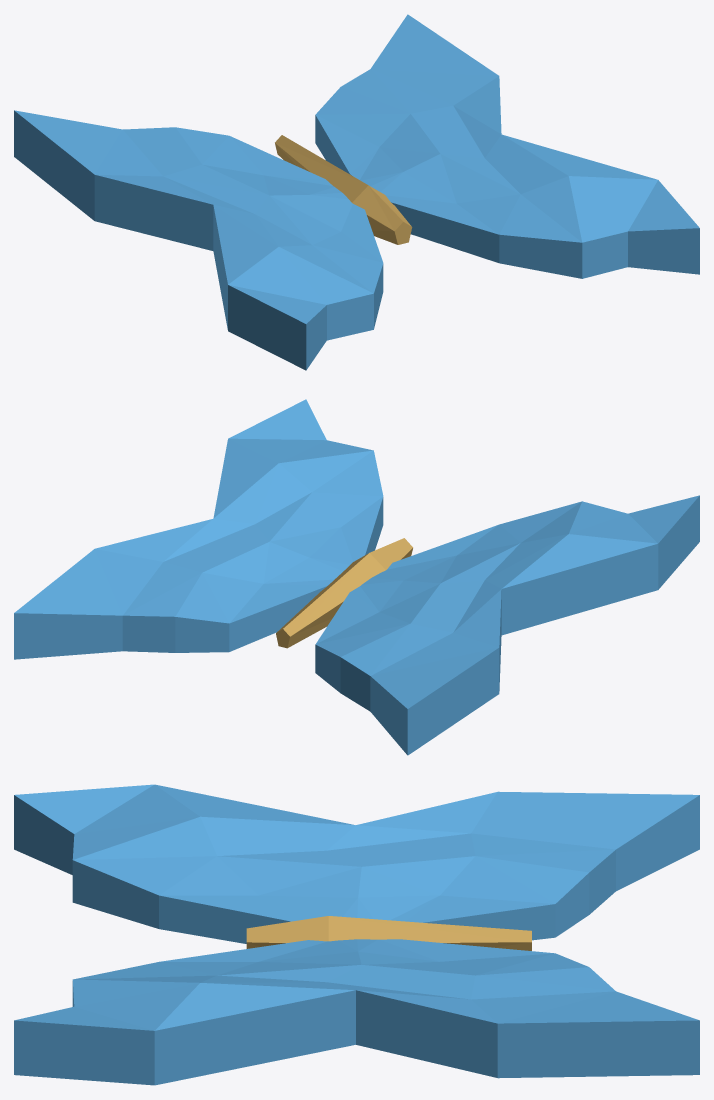
The model's file is butterfly (divided).fbx.
3 views of the same model, one above another, from view 1: azimuth 30°, elevation 25°; view 2: azimuth 150°, elevation 25°; view 3: azimuth 270°, elevation 25° (orthographic). The views are drawn at different scales.
Parts seen in each view (by area): view 1: Cube, Cube.002, Cube.001, Cube.003, Center; view 2: Cube.003, Cube.002, Cube.001, Cube, Center; view 3: Cube.001, Cube.002, Cube.003, Cube, Center.
Boxes of the visible parts, x1=… form: Cube: x1=370, y1=134, x2=699, y2=278; Cube.002: x1=14, y1=110, x2=342, y2=250; Cube.001: x1=213, y1=193, x2=383, y2=370; Cube.003: x1=315, y1=14, x2=501, y2=186; Center: x1=275, y1=135, x2=412, y2=244; Cube.003: x1=14, y1=518, x2=342, y2=659; Cube.002: x1=315, y1=578, x2=501, y2=755; Cube.001: x1=372, y1=495, x2=699, y2=635; Cube: x1=213, y1=399, x2=383, y2=571; Center: x1=276, y1=538, x2=412, y2=648; Cube.001: x1=14, y1=784, x2=361, y2=943; Cube.002: x1=326, y1=791, x2=699, y2=940; Cube.003: x1=326, y1=939, x2=699, y2=1078; Cube: x1=14, y1=939, x2=361, y2=1085; Center: x1=246, y1=916, x2=531, y2=950.
Size of the model in its own units: 75.4 by 9.29 by 88.72.
